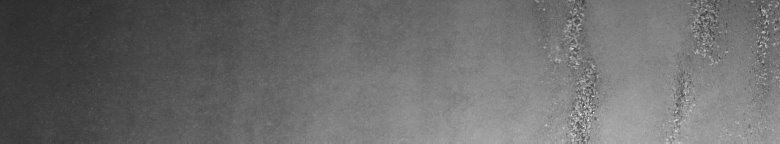hc: (544, 4, 604, 136)
